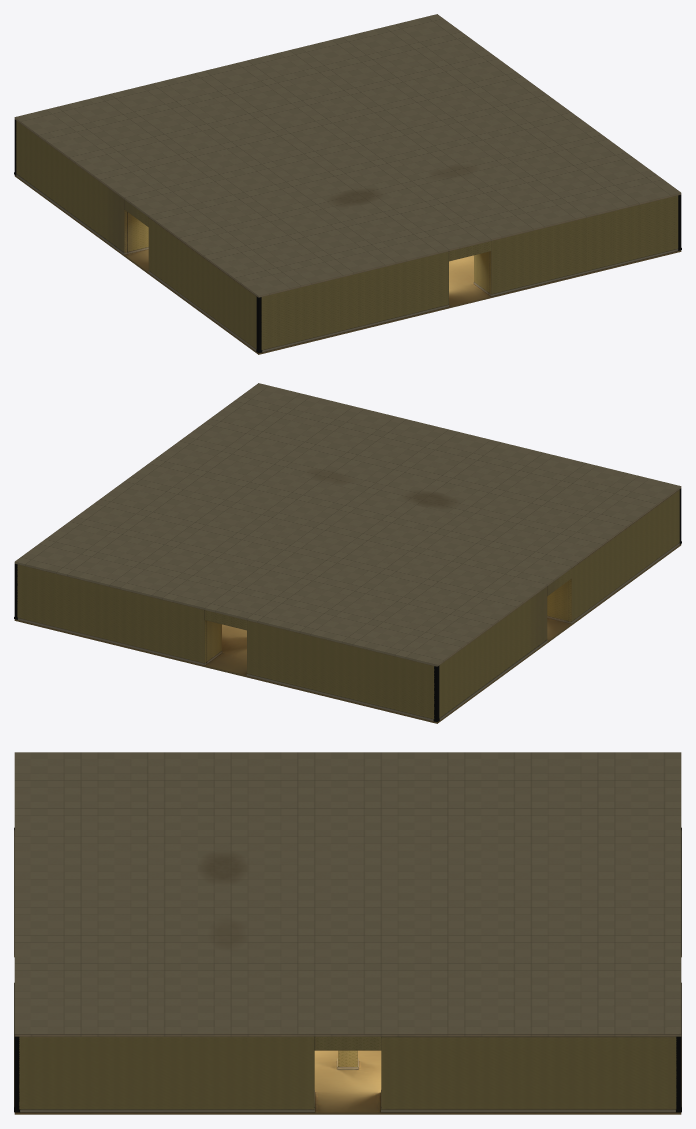
3 renders of one model, top to bottom at view 1: azimuth 30°, elevation 25°; view 2: azimuth 150°, elevation 25°; view 3: azimuth 270°, elevation 25°, orthographic. The views are drawn at different scales.
Parts seen in each view (by area): view 1: Ceiling, Walls, Floor, Pillars; view 2: Ceiling, Walls, Floor, Pillars; view 3: Ceiling, Walls, Floor, Pillars.
Part boxes in pixels (bbox=[...]): Ceiling: bbox=[14, 14, 681, 297]; Walls: bbox=[14, 119, 681, 350]; Floor: bbox=[14, 175, 681, 354]; Pillars: bbox=[14, 172, 681, 353]; Ceiling: bbox=[14, 383, 681, 666]; Walls: bbox=[14, 488, 681, 719]; Floor: bbox=[14, 544, 681, 723]; Pillars: bbox=[14, 541, 681, 722]; Ceiling: bbox=[14, 752, 681, 1036]; Walls: bbox=[14, 1036, 681, 1109]; Floor: bbox=[14, 1050, 681, 1114]; Pillars: bbox=[14, 827, 681, 1112].
Size of what is drawn, in the model's own units: 24.04 by 3.2 by 24.04.
Materials: 7 (5 with a texture image).
